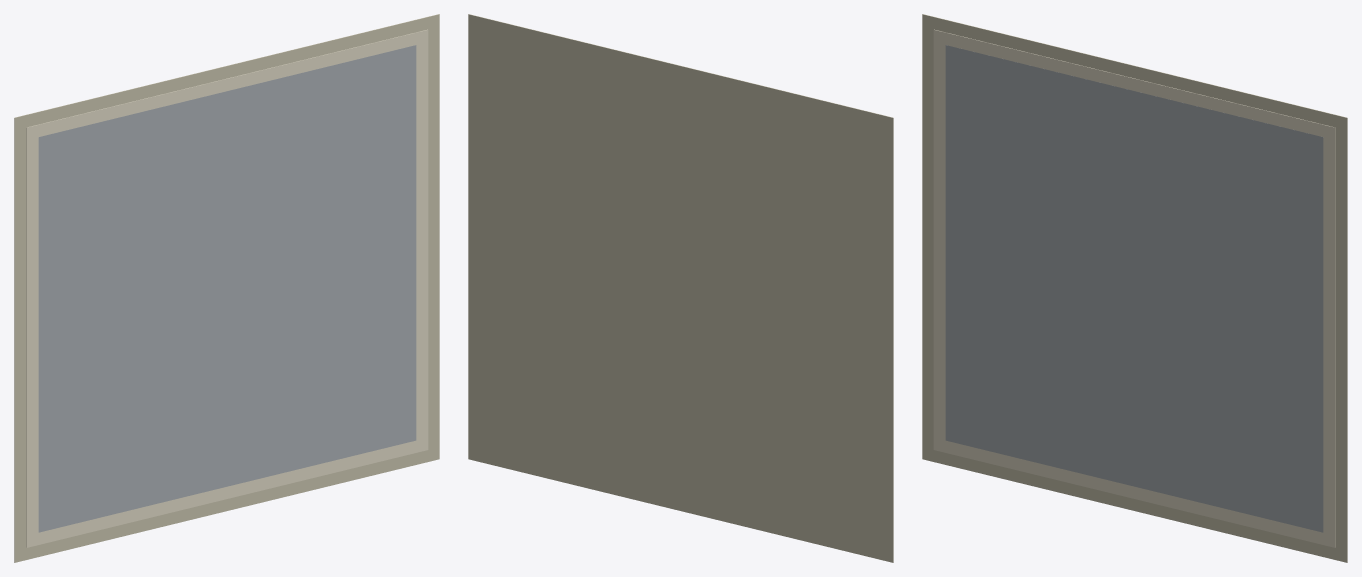
Rendered from prepared_mylar_stock.glb.
3 renders of one model, left to right at view 1: azimuth 30°, elevation 25°; view 2: azimuth 150°, elevation 25°; view 3: azimuth 330°, elevation 25°, orthographic.
Parts seen in each view (by area): view 1: raw_film_3, paper_interleaf_2, paper_backing, lot_card, paper_interleaf_1; view 2: paper_backing; view 3: raw_film_3, paper_interleaf_2, paper_backing, lot_card, paper_interleaf_1.
Boxes of the visible parts, x1,y1,x2,y2 form: raw_film_3: (38, 45, 416, 532); paper_interleaf_2: (26, 29, 428, 547); paper_backing: (14, 14, 439, 562); lot_card: (62, 458, 392, 548); paper_interleaf_1: (26, 30, 425, 547); paper_backing: (468, 14, 893, 562); raw_film_3: (945, 45, 1323, 532); paper_interleaf_2: (933, 29, 1335, 547); paper_backing: (922, 14, 1347, 562); lot_card: (969, 458, 1299, 548); paper_interleaf_1: (936, 30, 1335, 547).
Bounding box in the file's own units: 0.18 × 0.18 × 0.000536.
4 materials, 1 textured.
